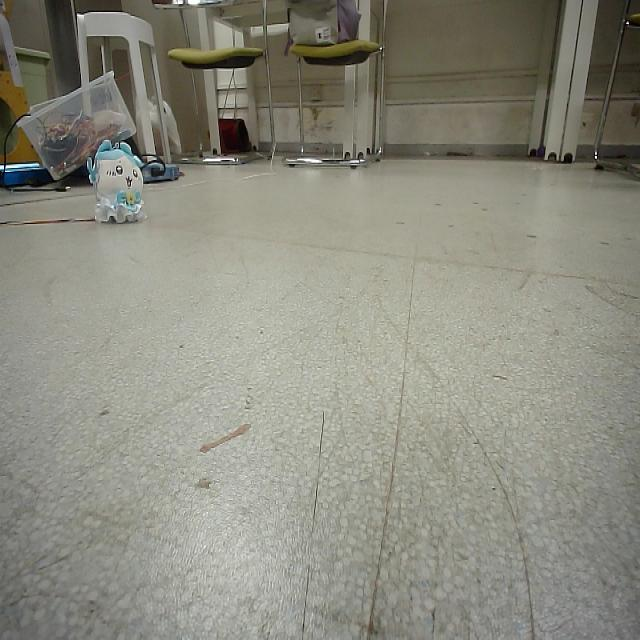xiaoba: (81, 138, 146, 224)
